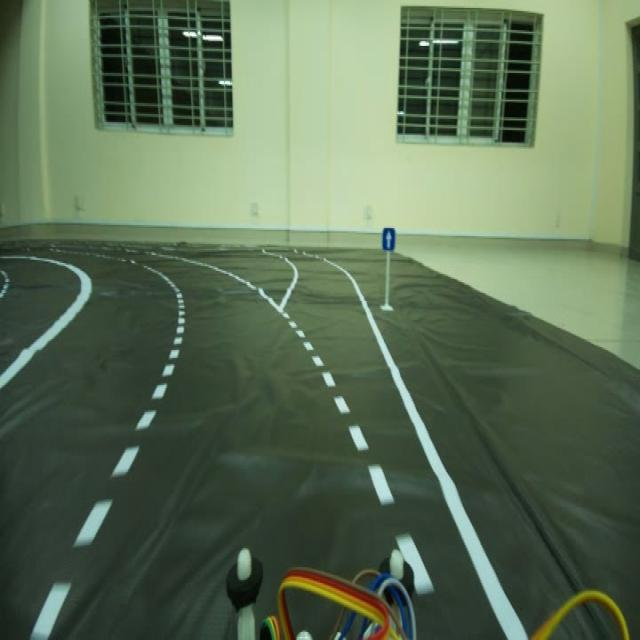onewayroad: (382, 224, 397, 254)
